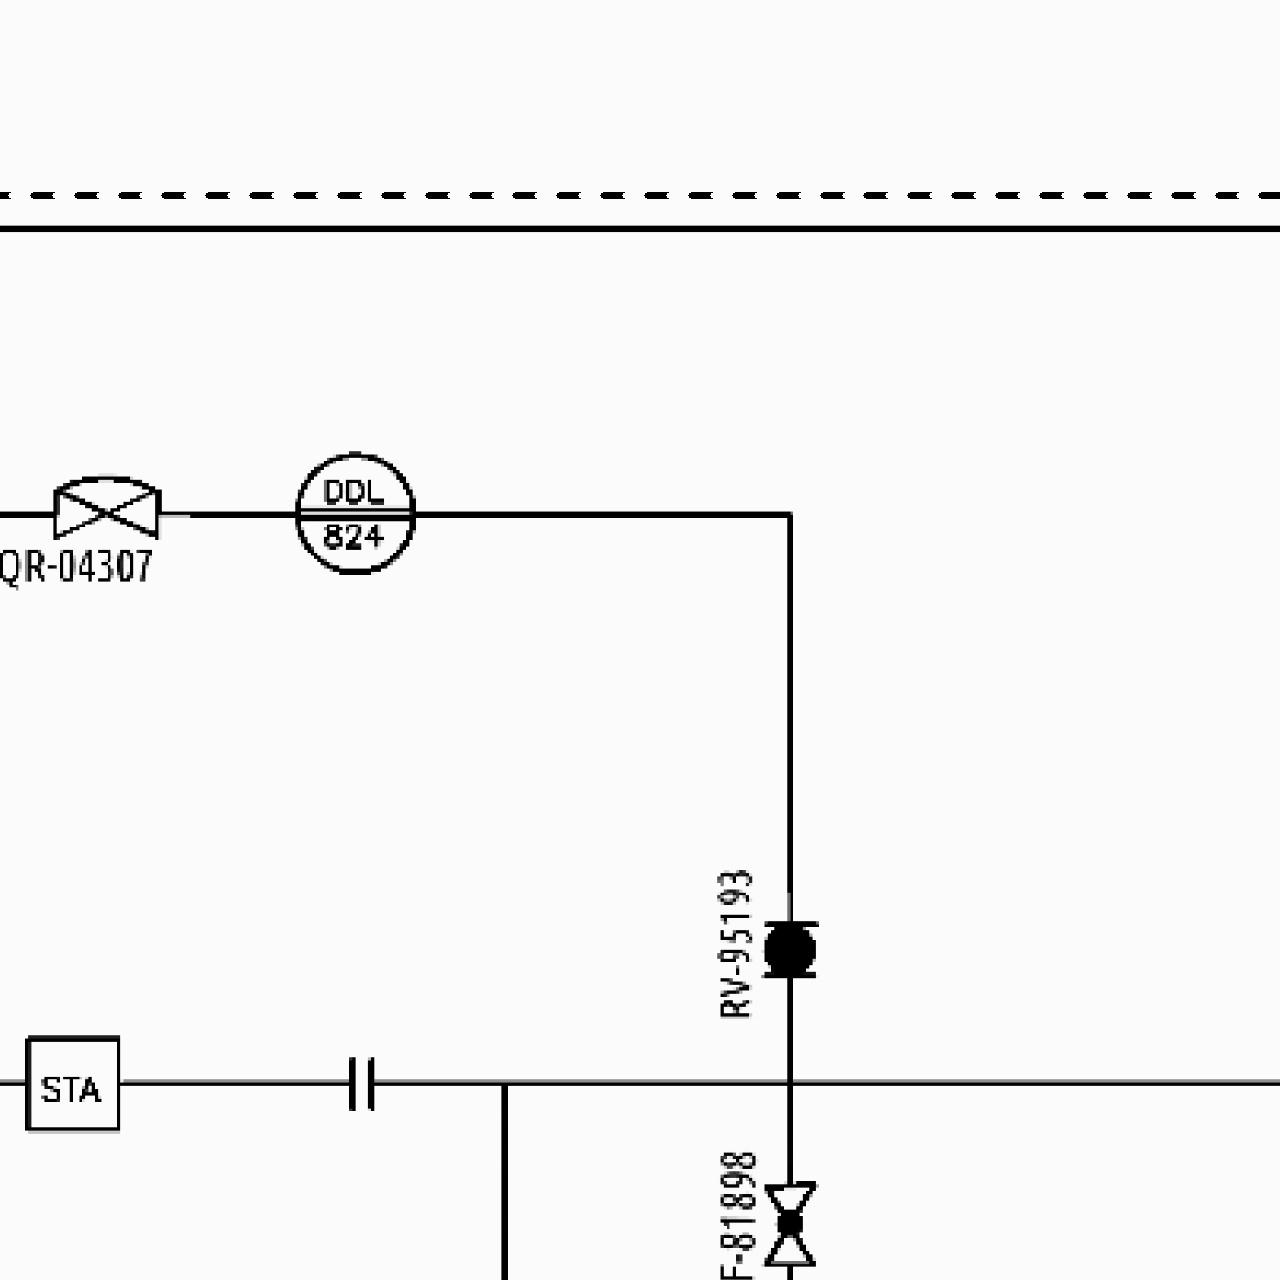Control-Panel: (290, 448, 418, 578)
